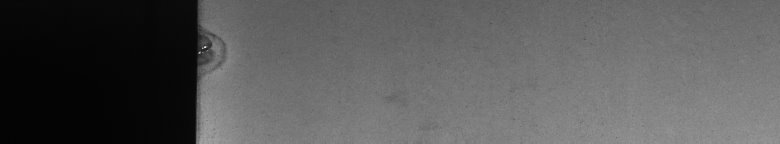hb: (208, 24, 232, 76)
